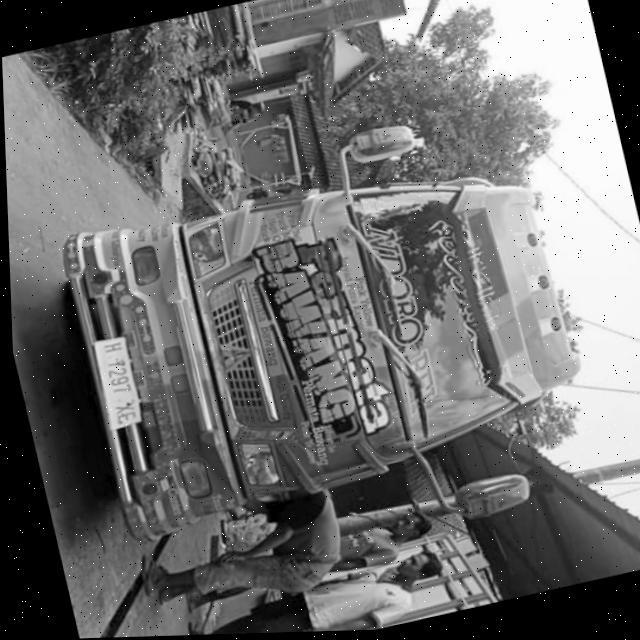truck: (8, 92, 612, 606)
